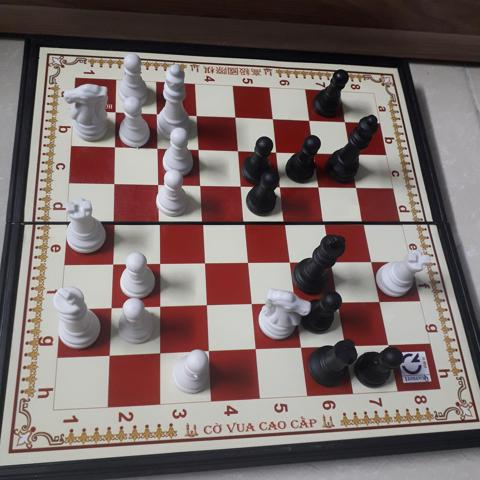xcorner: (323, 252, 340, 269), (230, 141, 246, 158), (150, 174, 166, 191), (106, 173, 122, 190), (363, 252, 380, 268), (151, 253, 167, 270), (243, 295, 259, 312), (293, 339, 309, 356), (337, 114, 353, 130), (301, 112, 317, 128), (265, 111, 281, 127), (227, 109, 243, 125), (189, 107, 205, 123), (149, 105, 165, 121), (108, 104, 124, 120), (343, 145, 359, 161), (306, 144, 322, 160), (269, 143, 285, 159), (190, 140, 206, 156), (149, 139, 165, 155), (107, 137, 123, 153), (349, 179, 365, 195), (312, 178, 328, 194), (273, 177, 289, 193), (233, 176, 249, 192), (192, 175, 208, 191), (356, 214, 372, 230), (317, 214, 333, 230), (277, 214, 293, 230), (236, 213, 252, 229), (194, 213, 210, 229), (150, 213, 166, 229), (105, 212, 121, 228), (282, 253, 298, 269), (240, 253, 256, 269), (196, 253, 212, 269), (104, 254, 120, 270), (371, 293, 387, 309), (330, 294, 346, 310), (287, 295, 303, 311), (198, 296, 214, 312), (151, 297, 167, 313), (103, 298, 119, 314), (380, 336, 396, 352), (337, 338, 353, 354), (247, 341, 263, 357), (200, 343, 216, 359), (152, 345, 168, 361), (101, 347, 117, 363)
